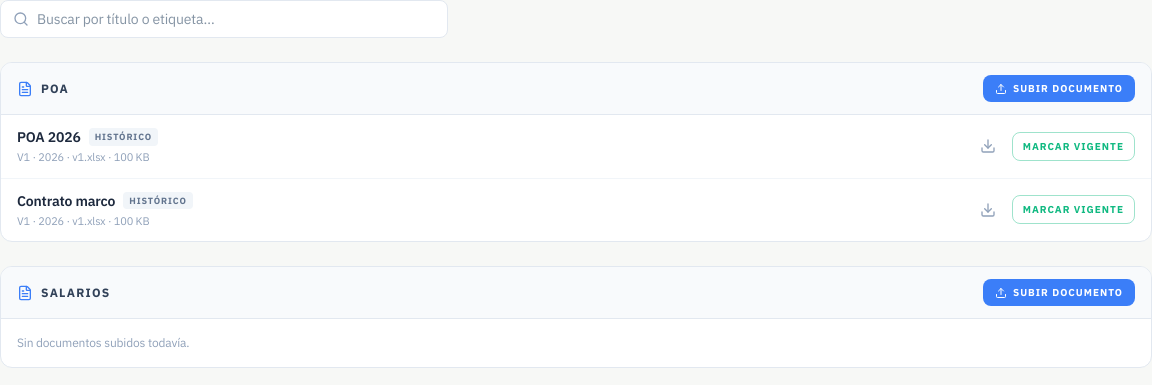
OperationalDocumentsView › la búsqueda filtra por título
Type "contrato" into the field with placeholder "Buscar por título o etiqueta…" at [236, 19], box x1=37 y1=9 x2=435 y2=29
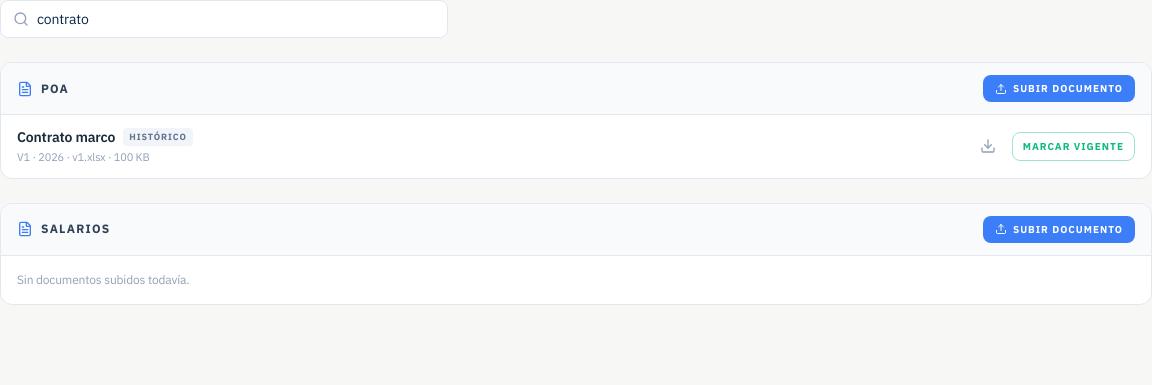
Expected: the text "Contrato marco" is shown, x1=17 y1=127 x2=115 y2=147
Now the text "POA 2026" is gone
